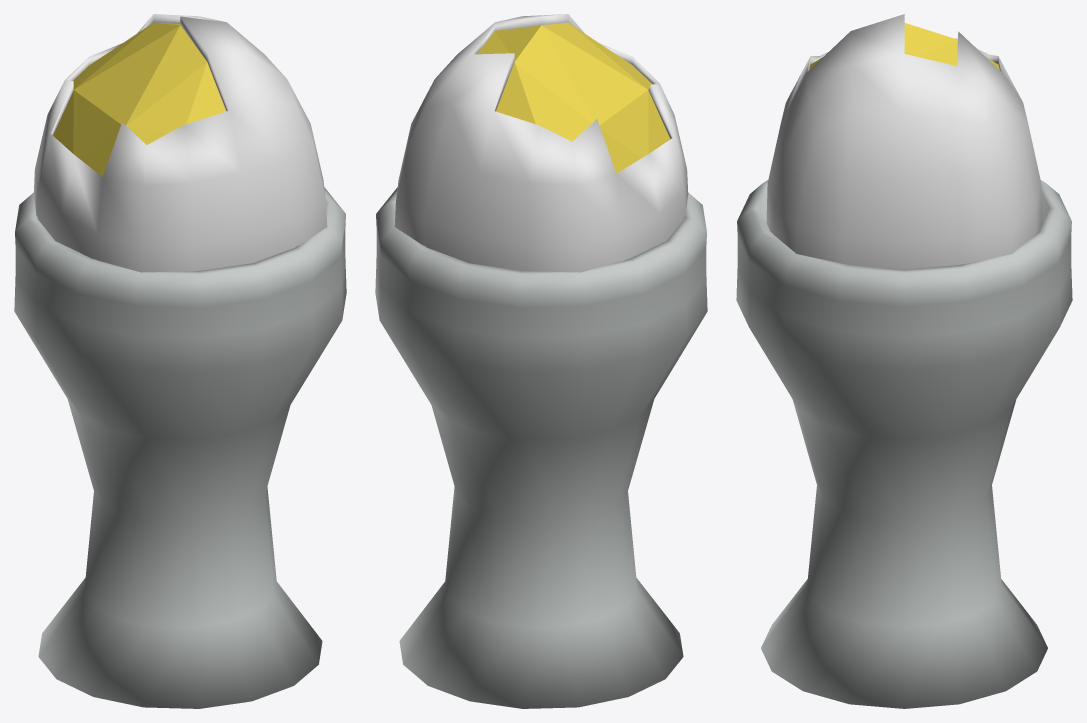
Rendered from egg.glb.
3 renders of one model, left to right at view 1: azimuth 30°, elevation 25°; view 2: azimuth 150°, elevation 25°; view 3: azimuth 270°, elevation 25°, orthographic.
Visible parts, largest first — view 1: holder, egg; view 2: holder, egg; view 3: holder, egg.
Part boxes in pixels (bbox=[...]): holder: bbox=[14, 187, 346, 708]; egg: bbox=[33, 14, 327, 272]; holder: bbox=[375, 187, 707, 708]; egg: bbox=[394, 14, 688, 272]; holder: bbox=[736, 180, 1072, 708]; egg: bbox=[766, 14, 1042, 269].
Size of the model in its own units: 3.51 by 7.3 by 3.51.
